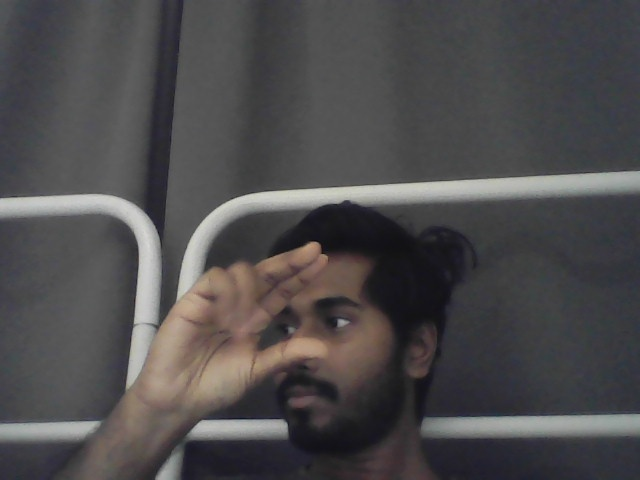no: (136, 240, 331, 415)
